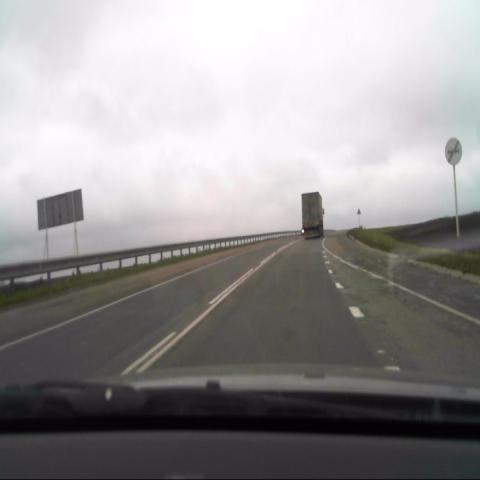3_21: (444, 134, 462, 167)
